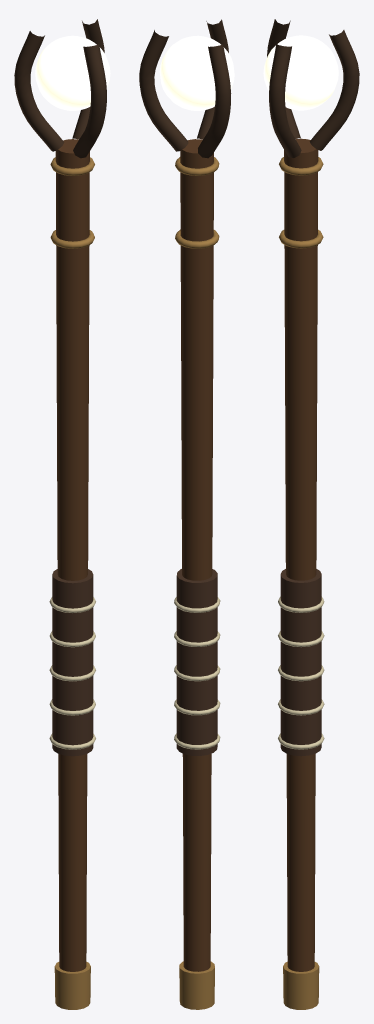
File: staff-v1.glb
The picture shows the model from 3 angles, left to right: view 1: azimuth 90°, elevation 25°; view 2: azimuth 210°, elevation 25°; view 3: azimuth 270°, elevation 25°; orthographic projection.
Parts seen in each view (by area): view 1: WeaponDrawn; view 2: WeaponDrawn; view 3: WeaponDrawn.
Part boxes in pixels (x1=…): WeaponDrawn: x1=14, y1=19, x2=110, y2=1009; WeaponDrawn: x1=139, y1=19, x2=234, y2=1009; WeaponDrawn: x1=263, y1=19, x2=359, y2=1009.
Size of the model in its own units: 0.2053 by 2.14 by 0.1911.
